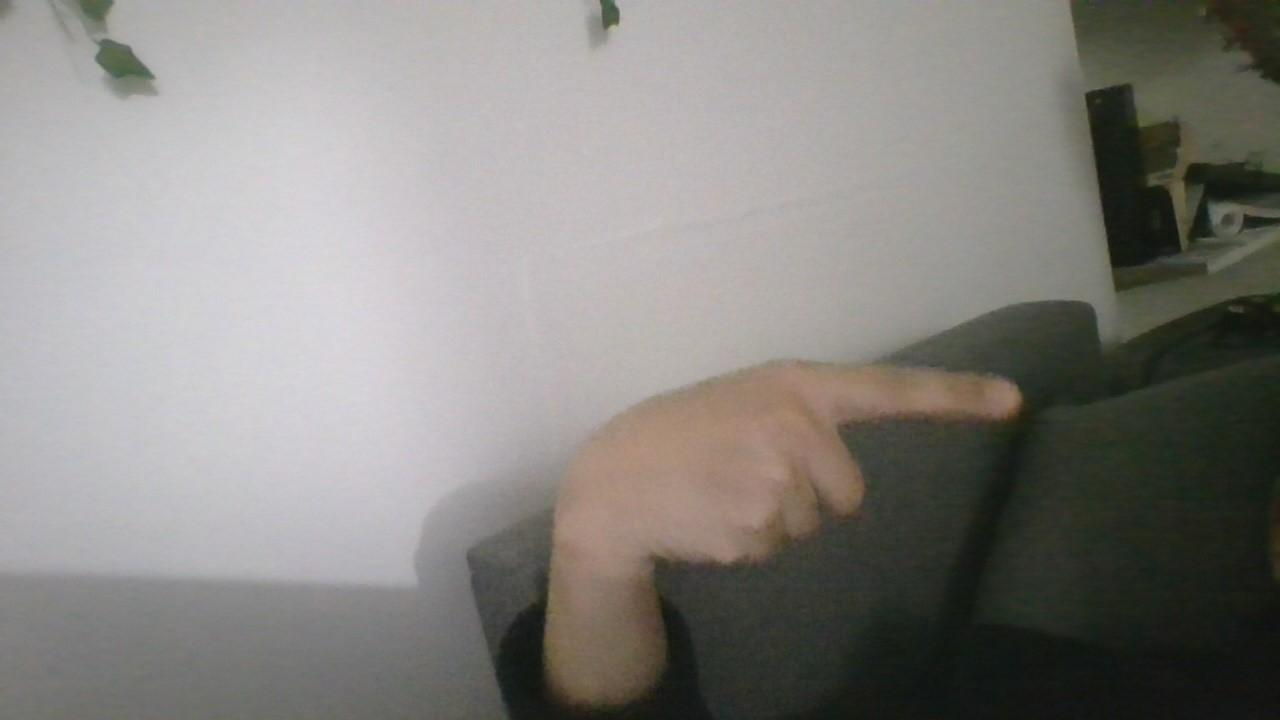right: (522, 350, 1035, 584)
